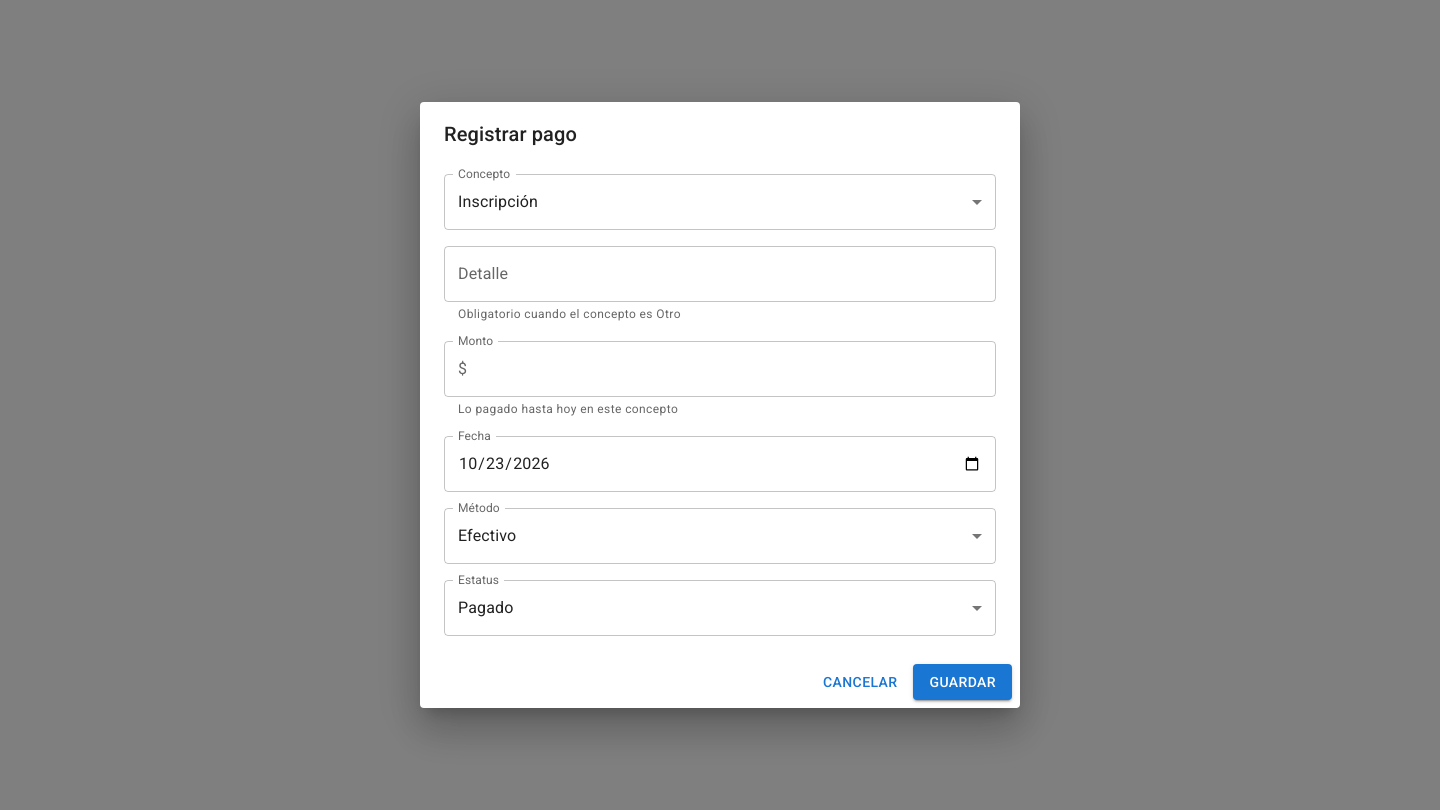
Test case: a failed save keeps the dialog open with the message and the values
Type "200" into the field labelled "Monto" at {"x": 736, "y": 369}, box [475, 341, 996, 397]
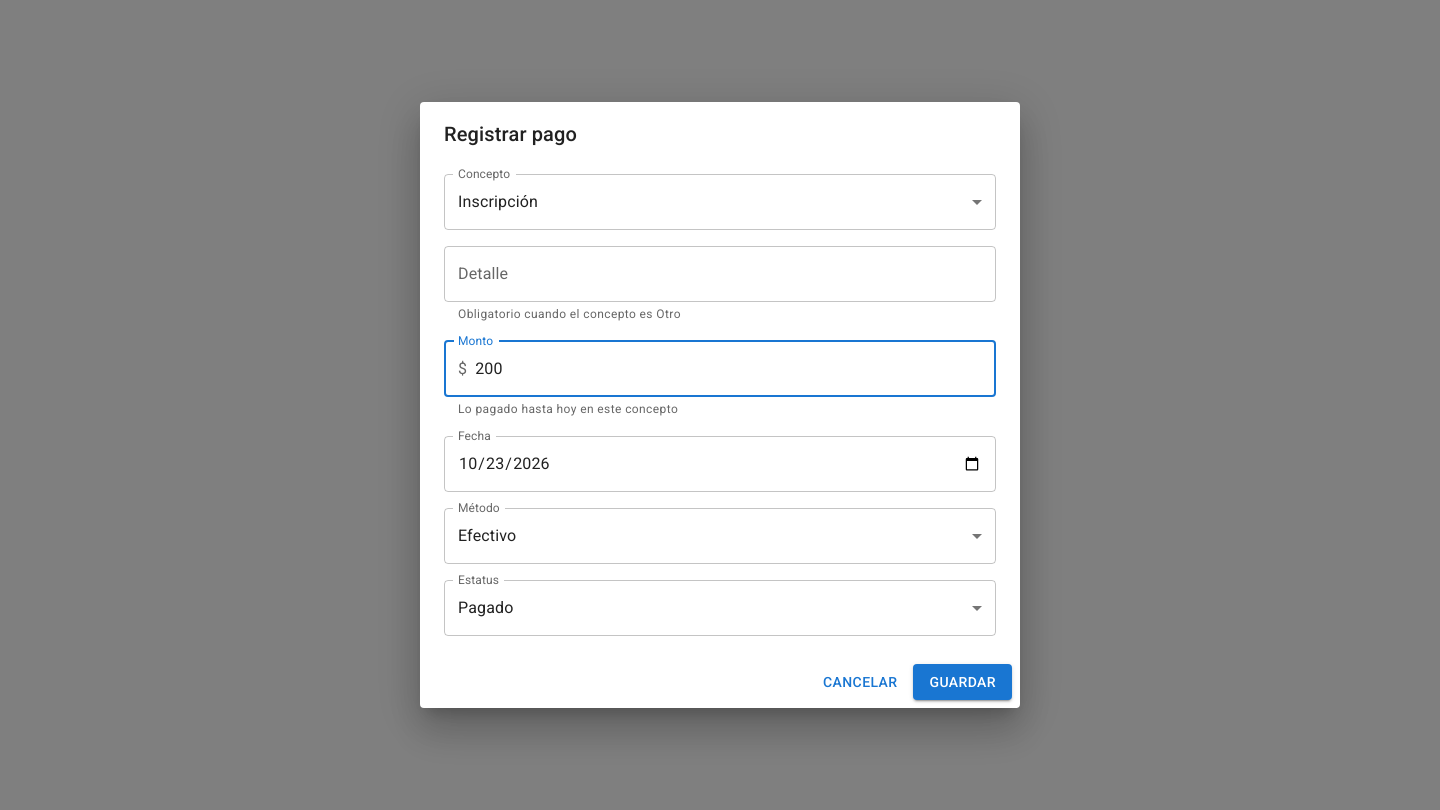
Click the button "Guardar" at {"x": 963, "y": 682}, box [914, 664, 1012, 700]
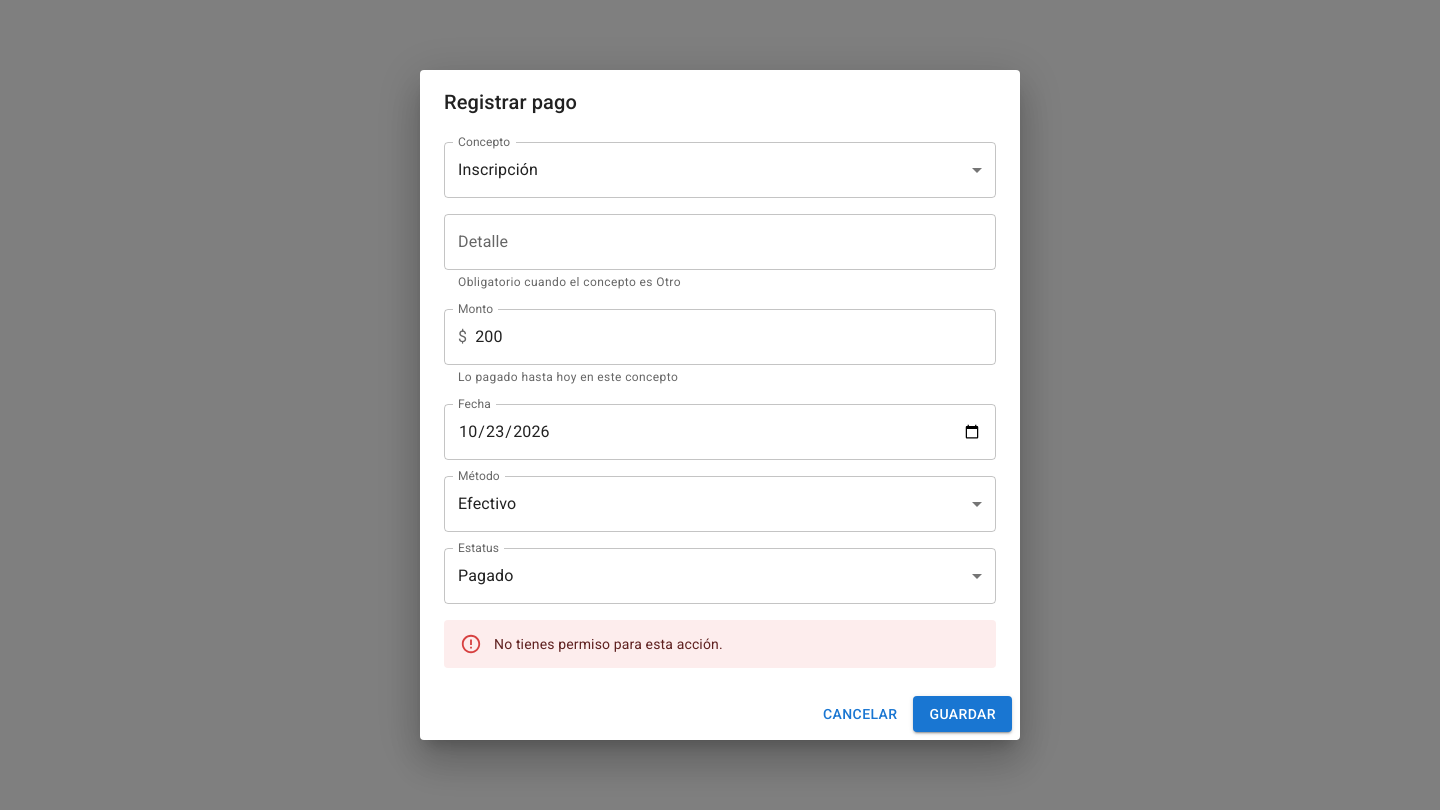
Result: the message reads "No tienes permiso para esta acción." at [494, 636, 723, 652]
